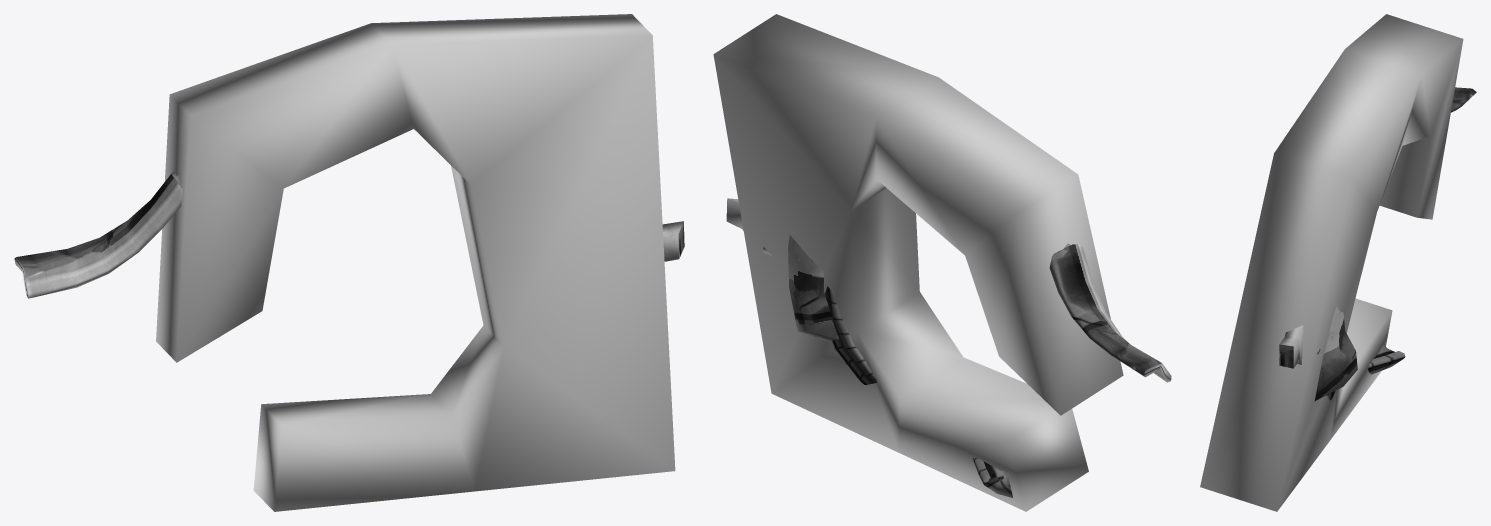
The model's file is l_thruster_damaged.fbx.
3 renders of one model, left to right at view 1: azimuth 30°, elevation 25°; view 2: azimuth 150°, elevation 25°; view 3: azimuth 270°, elevation 25°, orthographic. The views are drawn at different scales.
Visible parts, largest first — view 1: 0000_l_thruster_damaged, 0001_l_thruster_damaged; view 2: 0000_l_thruster_damaged, 0001_l_thruster_damaged; view 3: 0000_l_thruster_damaged, 0001_l_thruster_damaged.
Boxes of the visible parts, <box> form: 0000_l_thruster_damaged: <box>156,14,675,511</box>; 0001_l_thruster_damaged: <box>14,171,684,298</box>; 0000_l_thruster_damaged: <box>713,14,1123,511</box>; 0001_l_thruster_damaged: <box>726,198,1171,497</box>; 0000_l_thruster_damaged: <box>1200,14,1463,511</box>; 0001_l_thruster_damaged: <box>1279,87,1476,400</box>.
Size of the model in its own units: 9.63 by 6.96 by 4.7.
